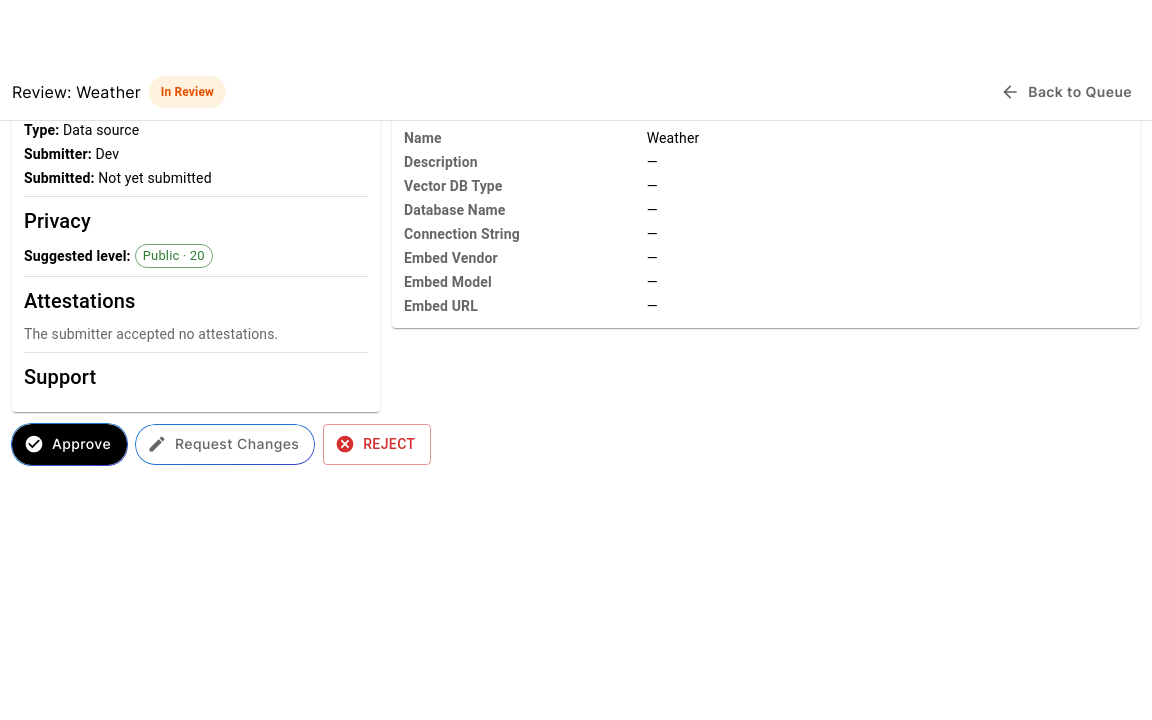
Test case: Approve dialog: catalogue picker (#504) › uses data catalogues for a data source submission
Click the button "Approve".
click(70, 444)  # box [12,424,127,465]
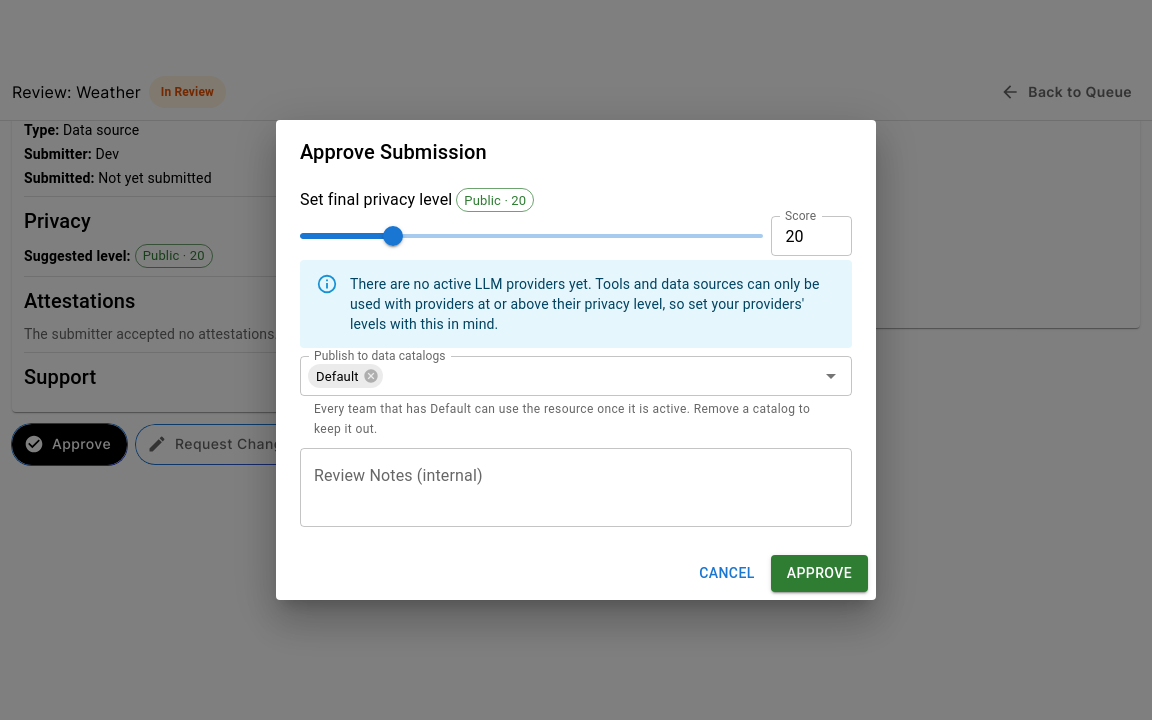
Expected: the dropdown labelled "Publish to data catalogs" is shown, [385,362,787,390]
Result: the button "Default" is shown at [308,364,383,388]
